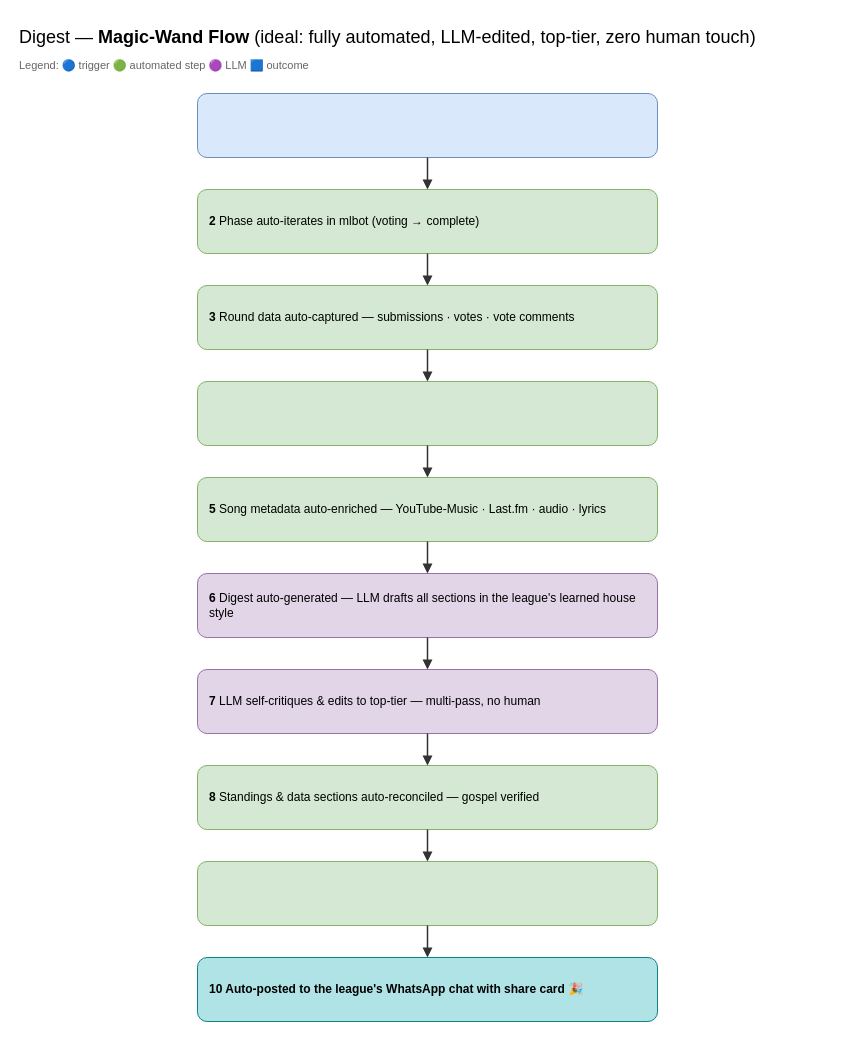
The diagram is 854 pixels wide and 1039 high, and some of its shapes have lost their labels. The centre of each missing label's shape, as x and y in pixels:
1 Round ends — Music League "Votes Are In" email arrives: the point at 427,125
4 Round chat auto-captured — WhatsApp window for the round: the point at 427,413
9 Digest auto-finalized — share card + interactive HTML published: the point at 427,893
